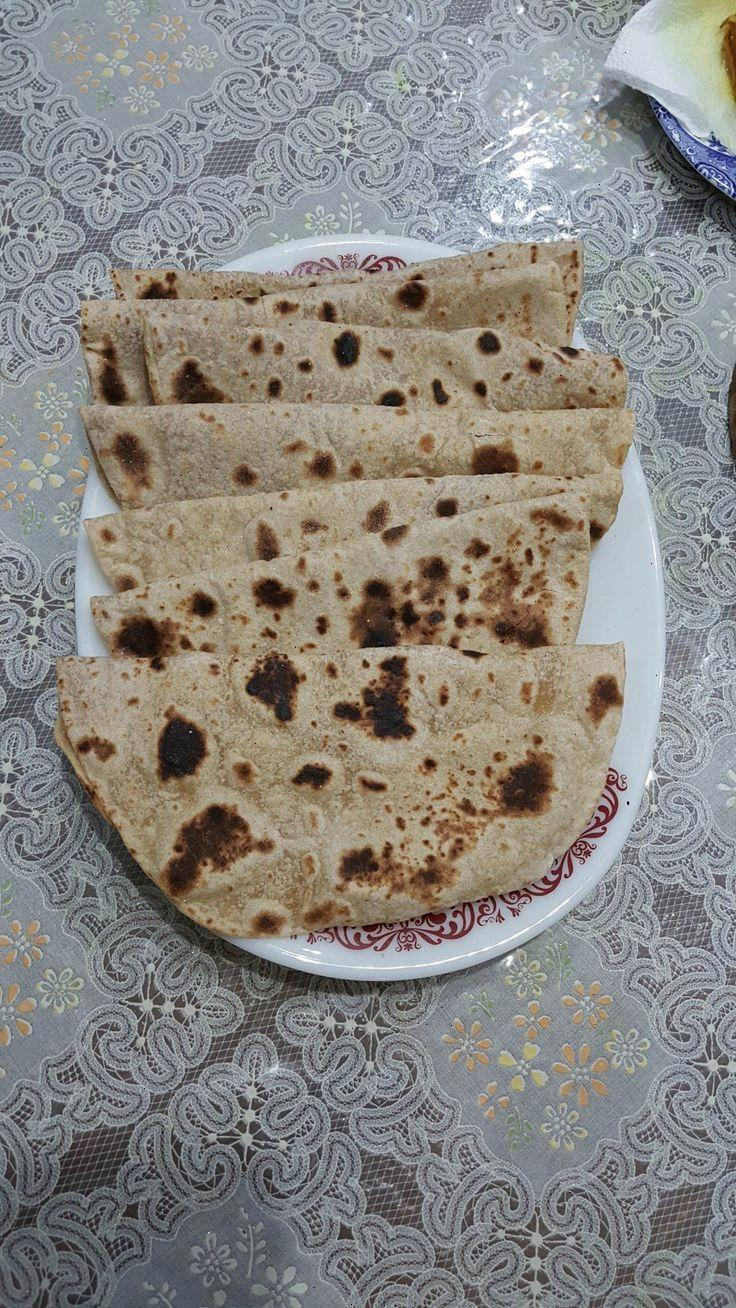roti phulka: (27, 206, 672, 991)
